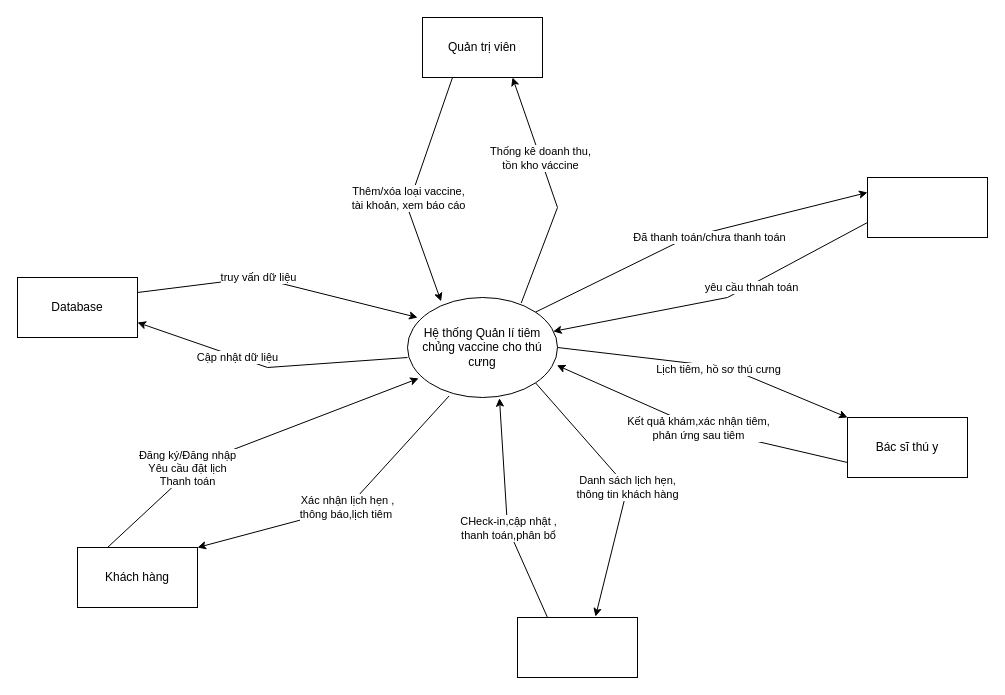
Some shapes in this 1005 by 695 pixel diagram are drawn without their labels. The box of each missing label's shape, as (x1, y1, x2, y2) in pixels:
Cổng thanh toán: (866, 176, 988, 238)
Nhân viên: (516, 616, 638, 678)
